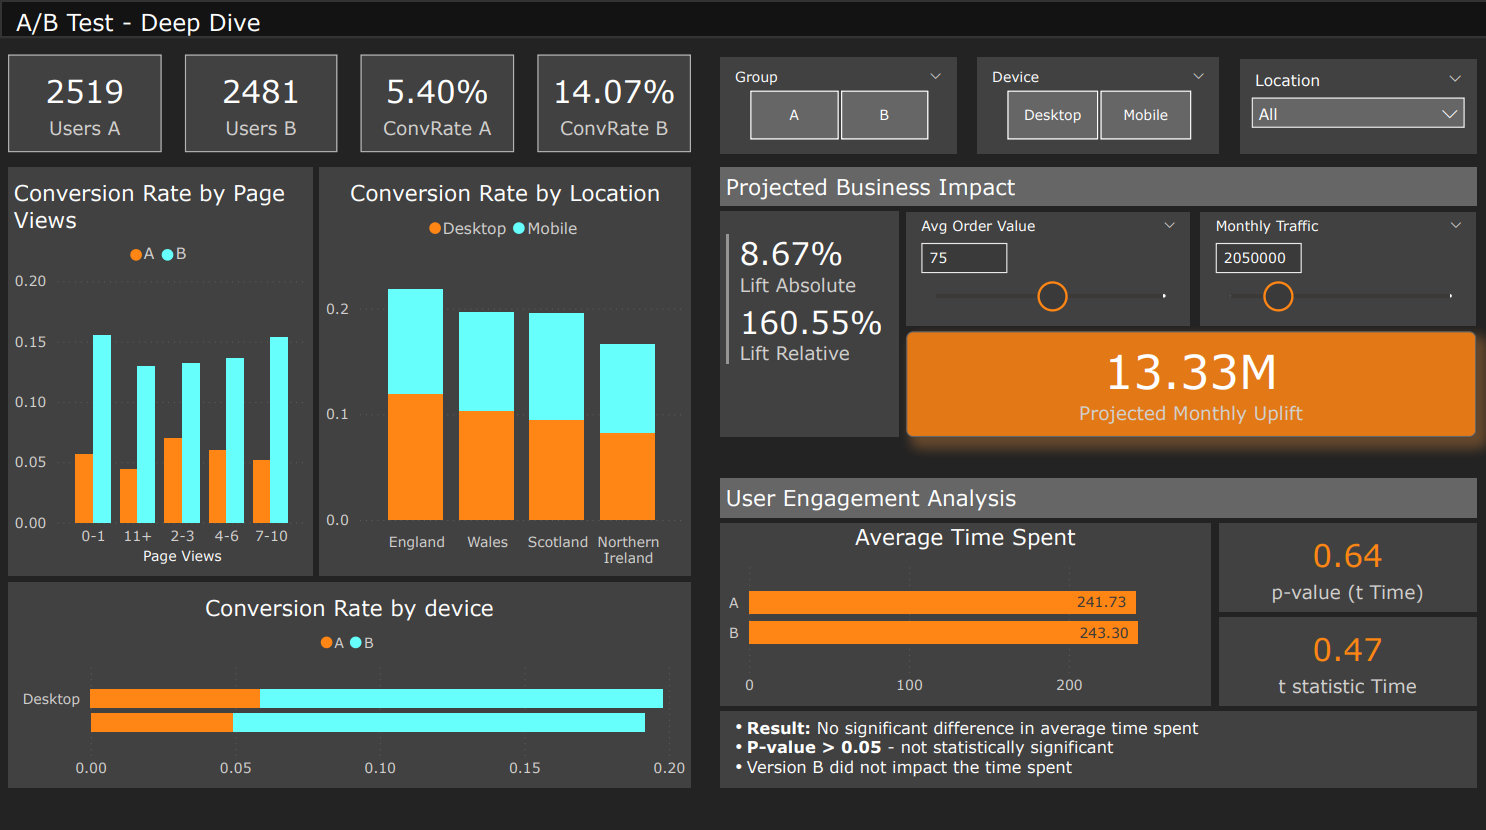

What the dashboard file says about the page in this screenshot:
{"tool":"powerbi","page":{"name":"Deep Dive","canvas":[1280,720],"ordinal":1},"visuals":[{"type":"clusteredBarChart","title":"Average Time Spent","fields":{"Category":["ab_testing.group"],"Y":["Avg(ab_testing.time_spent)"]},"box":[618.9,450,422.3,156.8],"z":0},{"type":"card","fields":{"Values":["ab_testing.Users A"]},"box":[7.2,46.7,131.5,84.5],"z":1000},{"type":"clusteredColumnChart","title":"Conversion Rate by Page Views","fields":{"Category":["ab_testing.pv_bucket"],"Y":["ab_testing.ConvRate (overall)"],"Series":["ab_testing.group"]},"box":[7.2,143.6,261.8,351.1],"z":2000},{"type":"barChart","title":"Conversion Rate by device","fields":{"Category":["ab_testing.device"],"Y":["ab_testing.ConvRate (overall)"],"Series":["ab_testing.group"]},"box":[7.2,500.7,586.3,177.3],"z":3000},{"type":"slicer","fields":{"Values":["MonthlyTraffic.MonthlyTraffic"]},"box":[1031.5,182.2,237.7,97.7],"z":4000},{"type":"slicer","fields":{"Values":["ValuePerConv.ValuePerConv"]},"box":[779.4,182.2,243.7,97.7],"z":5000},{"type":"card","fields":{"Values":["ab_testing.Projected Monthly Uplift"]},"box":[779.4,284.7,489.8,91.7],"z":6000},{"type":"card","fields":{"Values":["ab_testing.ConvRate B"]},"box":[462.1,46.7,131.5,84.5],"z":7000},{"type":"card","fields":{"Values":["ab_testing.Users B"]},"box":[158.8,46.7,131.5,84.5],"z":8000},{"type":"card","fields":{"Values":["ab_testing.ConvRate A"]},"box":[310.5,46.7,131.5,84.5],"z":9000},{"type":"textbox","title":"A/B Test - Deep Dive","box":[0,0,1280,32.6],"z":10000},{"type":"columnChart","title":"Conversion Rate by Location","fields":{"Category":["ab_testing.location"],"Y":["ab_testing.ConvRate (overall)"],"Series":["ab_testing.device"]},"box":[275.1,143.6,318.5,351.1],"z":11000},{"type":"multiRowCard","fields":{"Values":["ab_testing.Lift Absolute","ab_testing.Lift Relative"]},"box":[618.9,182.2,153.2,194.2],"z":12000},{"type":"textbox","box":[618.9,611.7,650.3,66.4],"z":13000},{"type":"slicer","fields":{"Values":["ab_testing.group"]},"box":[618.9,49.5,202.7,82],"z":14000},{"type":"slicer","fields":{"Values":["ab_testing.device"]},"box":[839.7,49.5,208.7,82],"z":15000},{"type":"slicer","fields":{"Values":["ab_testing.location"]},"box":[1066.5,50.7,202.7,80.8],"z":16000},{"type":"card","fields":{"Values":["ab_testing.p-value (t Time)"]},"box":[1048.4,450,220.8,76],"z":17000},{"type":"card","fields":{"Values":["ab_testing.t statistic Time"]},"box":[1048.4,530.8,220.8,76],"z":18000},{"type":"textbox","box":[618.9,411.4,650.3,33.8],"z":19000},{"type":"textbox","box":[618.9,143.6,650.3,33.8],"z":20000}]}

Visuals, with their boxes in screenshot pixels (x1, y1, x2, y2), scaled from the page's 1280x720 canvas onto the 1486x830 screenshot:
"Average Time Spent" clusteredBarChart: x1=719 y1=519 x2=1209 y2=700
card - ab_testing.Users A: x1=8 y1=54 x2=161 y2=151
"Conversion Rate by Page Views" clusteredColumnChart: x1=8 y1=166 x2=312 y2=570
"Conversion Rate by device" barChart: x1=8 y1=577 x2=689 y2=782
slicer - MonthlyTraffic.MonthlyTraffic: x1=1198 y1=210 x2=1473 y2=323
slicer - ValuePerConv.ValuePerConv: x1=905 y1=210 x2=1188 y2=323
card - ab_testing.Projected Monthly Uplift: x1=905 y1=328 x2=1473 y2=434
card - ab_testing.ConvRate B: x1=536 y1=54 x2=689 y2=151
card - ab_testing.Users B: x1=184 y1=54 x2=337 y2=151
card - ab_testing.ConvRate A: x1=360 y1=54 x2=513 y2=151
"A/B Test - Deep Dive" textbox: x1=0 y1=0 x2=1485 y2=38
"Conversion Rate by Location" columnChart: x1=319 y1=166 x2=689 y2=570
multiRowCard - ab_testing.Lift Absolute x ab_testing.Lift Relative: x1=719 y1=210 x2=896 y2=434
textbox: x1=719 y1=705 x2=1473 y2=782
slicer - ab_testing.group: x1=719 y1=57 x2=954 y2=152
slicer - ab_testing.device: x1=975 y1=57 x2=1217 y2=152
slicer - ab_testing.location: x1=1238 y1=58 x2=1473 y2=152
card - ab_testing.p-value (t Time): x1=1217 y1=519 x2=1473 y2=606
card - ab_testing.t statistic Time: x1=1217 y1=612 x2=1473 y2=700
textbox: x1=719 y1=474 x2=1473 y2=513
textbox: x1=719 y1=166 x2=1473 y2=205
